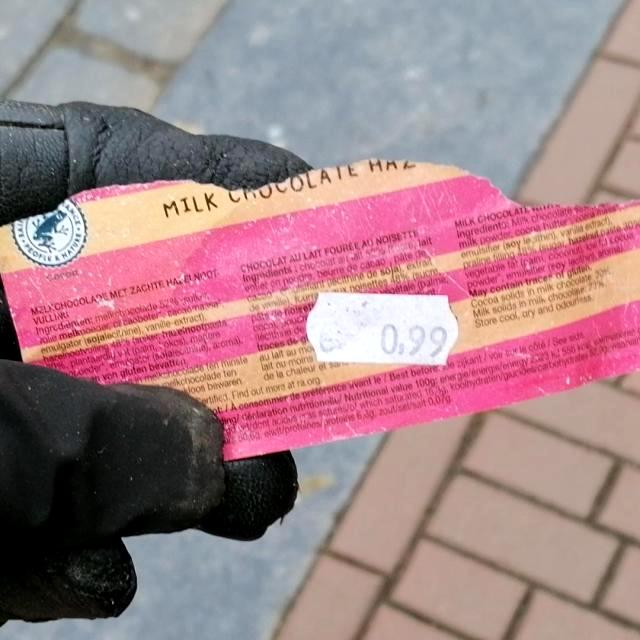Plastic: (1, 155, 640, 465)
